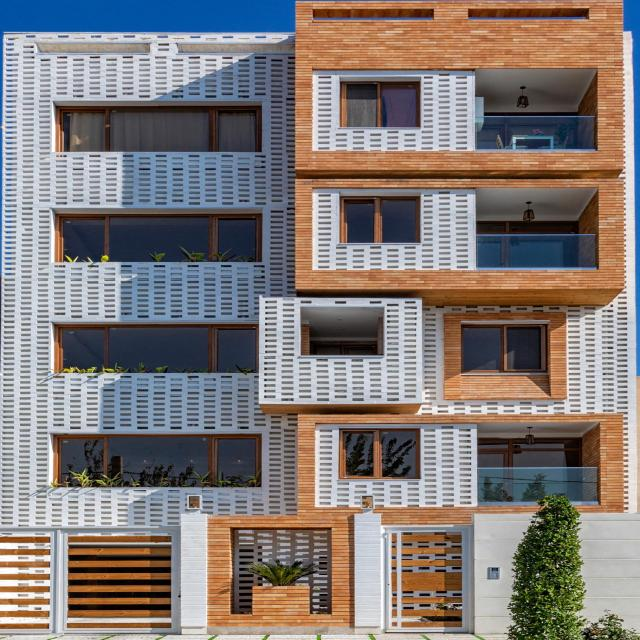Railing: (476, 232, 598, 270), (471, 115, 593, 152), (474, 465, 596, 502)
door: (56, 526, 182, 637), (380, 524, 479, 634)
plant: (504, 492, 640, 640)
wall: (2, 0, 640, 638)
windows: (54, 433, 263, 489), (52, 322, 261, 376), (53, 214, 261, 262), (54, 105, 262, 153), (338, 426, 421, 481), (461, 324, 547, 374), (339, 80, 422, 128), (340, 195, 422, 243), (477, 437, 582, 465), (310, 340, 382, 356)
